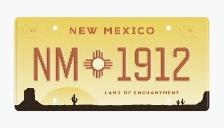1: (154, 45, 171, 82), (116, 45, 132, 82)
2: (172, 45, 191, 82)
9: (133, 46, 152, 82)
M: (54, 45, 79, 83)
N: (33, 46, 52, 82)
